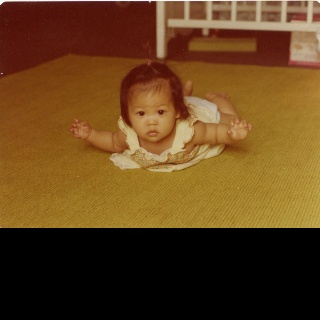without_mask: (127, 84, 176, 142)
